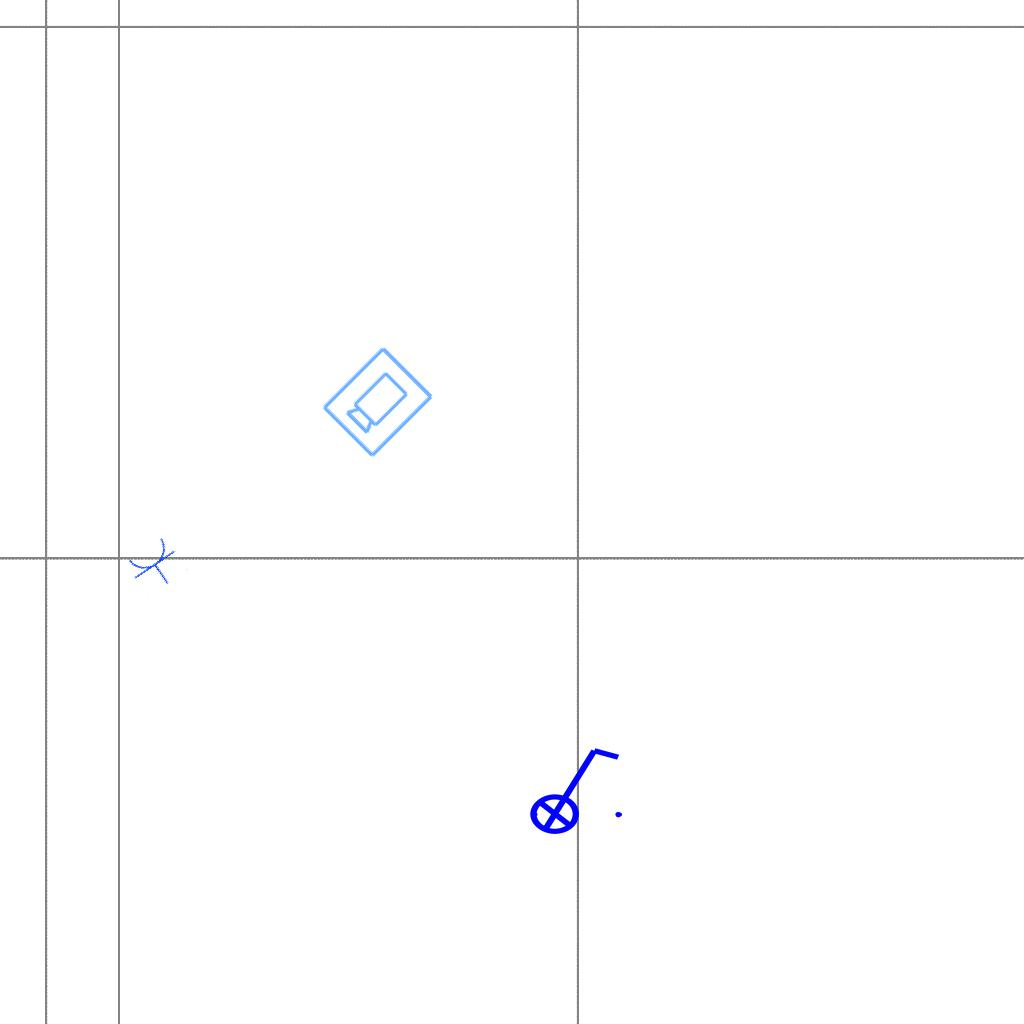Ausschalter_beleuchtet: (516, 740, 628, 836)
KFO_Kamera_mit_Festobjektiv: (318, 342, 437, 461)
Schukosteckdose_einfach: (123, 533, 189, 598)
